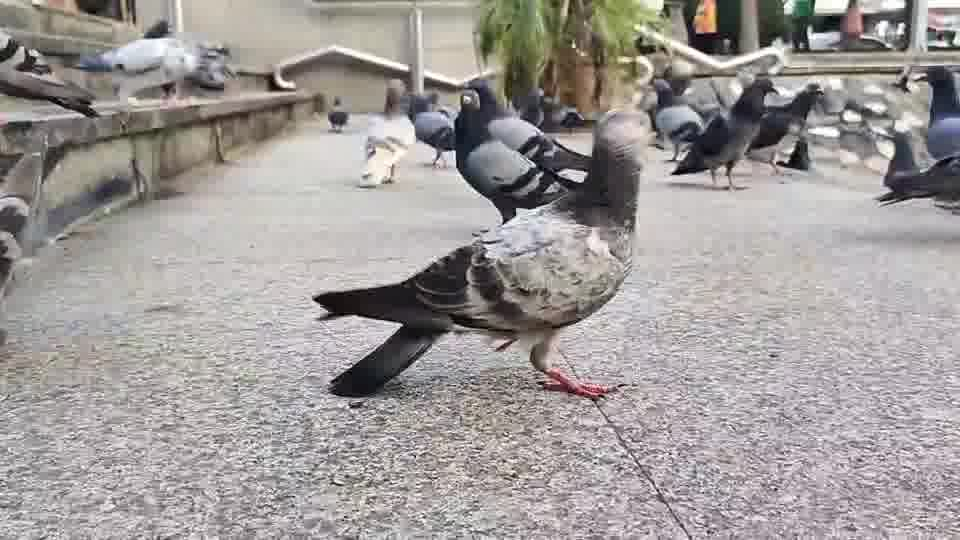Pigeon: (311, 106, 651, 401), (452, 85, 568, 223), (669, 76, 779, 192), (72, 19, 235, 97), (0, 35, 101, 119), (871, 125, 959, 213), (357, 134, 408, 187), (412, 107, 456, 168), (326, 95, 350, 133)
